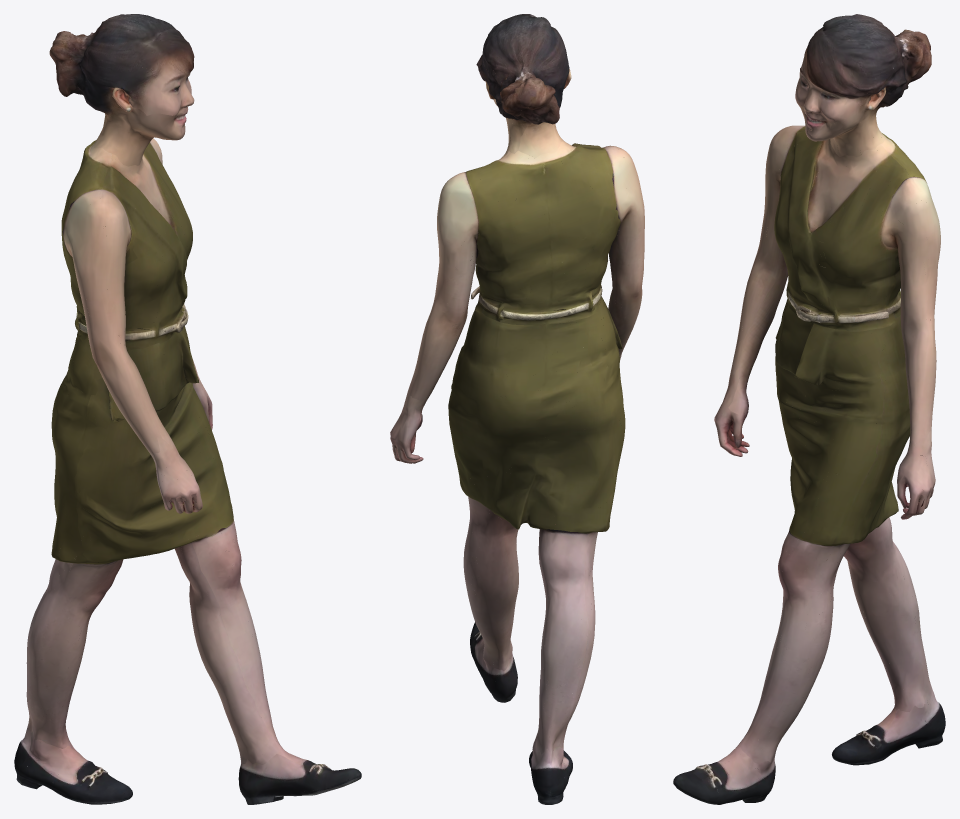
File: 人物其它_GIRLS_opt.glb
3 views of the same model, side by side, from view 1: azimuth 30°, elevation 25°; view 2: azimuth 150°, elevation 25°; view 3: azimuth 270°, elevation 25° (orthographic). The views are drawn at different scales.
Visible parts, largest first — view 1: Mat3d66_515530_2; view 2: Mat3d66_515530_2; view 3: Mat3d66_515530_2.
Part boxes in pixels (x1,y1,x2,y2): Mat3d66_515530_2: (14,14,361,804); Mat3d66_515530_2: (390,14,644,804); Mat3d66_515530_2: (673,14,945,804).
Size of the model in its own units: 0.1231 by 0.4 by 0.1314.
Materials: 1 (1 with a texture image).
